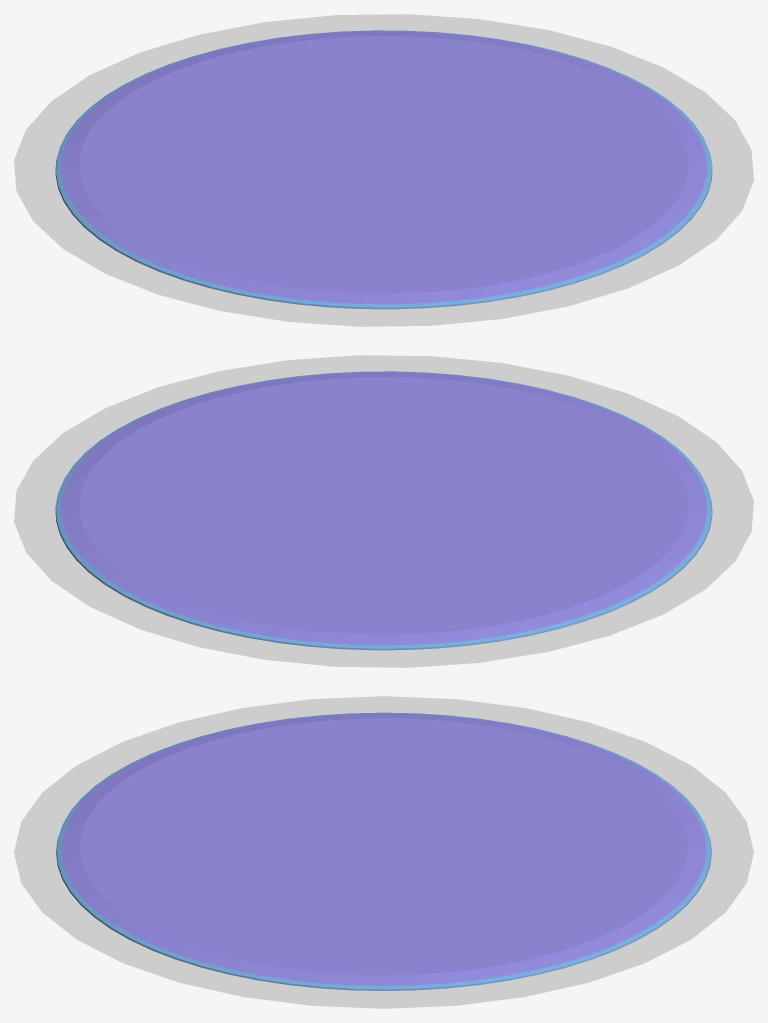
Rendered from island_small.glb.
3 views of the same model, one above another, from view 1: azimuth 30°, elevation 25°; view 2: azimuth 150°, elevation 25°; view 3: azimuth 270°, elevation 25° (orthographic).
Parts seen in each view (by area): view 1: island40; view 2: island40; view 3: island40.
Part boxes in pixels (x1,y1,x2,y2): island40: (14,14,753,326); island40: (14,355,753,667); island40: (14,696,753,1008).
Bounding box in the file's own units: 44.98 × 0.673 × 44.98.
